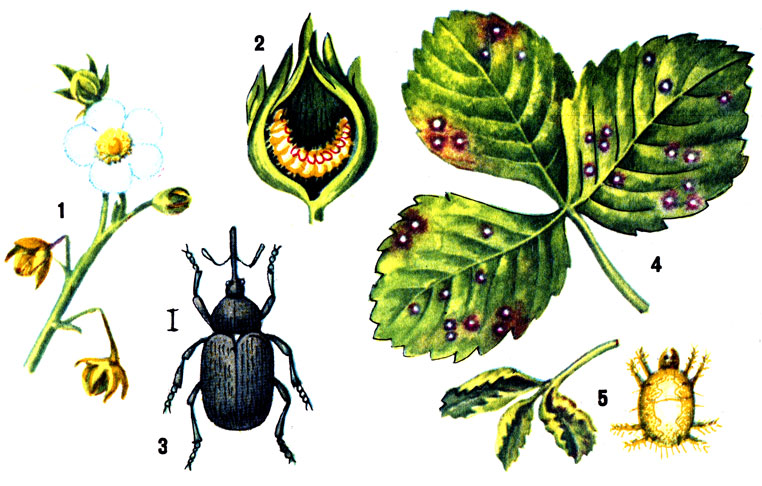dolgonosik: (162, 233, 313, 471)
